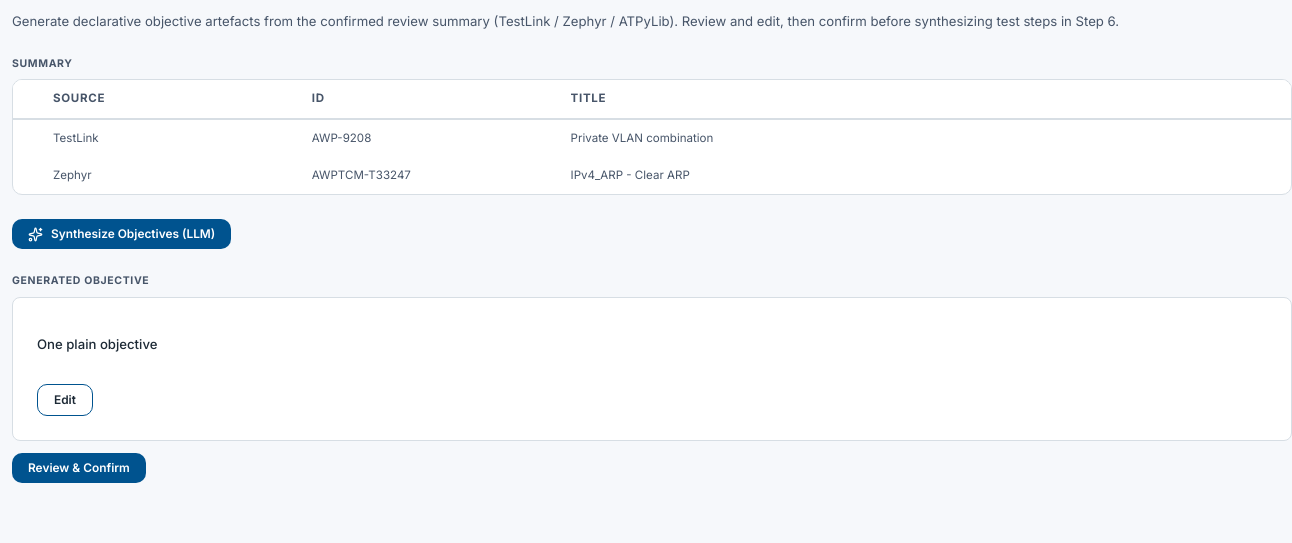
Test: OgObjectives › editing › keeps an objective with no <li> as a single line
What coordinates should you click on to do the following:
click the button "Edit"
I would click on:
 (65, 400)
Its box is [37,384,93,416].
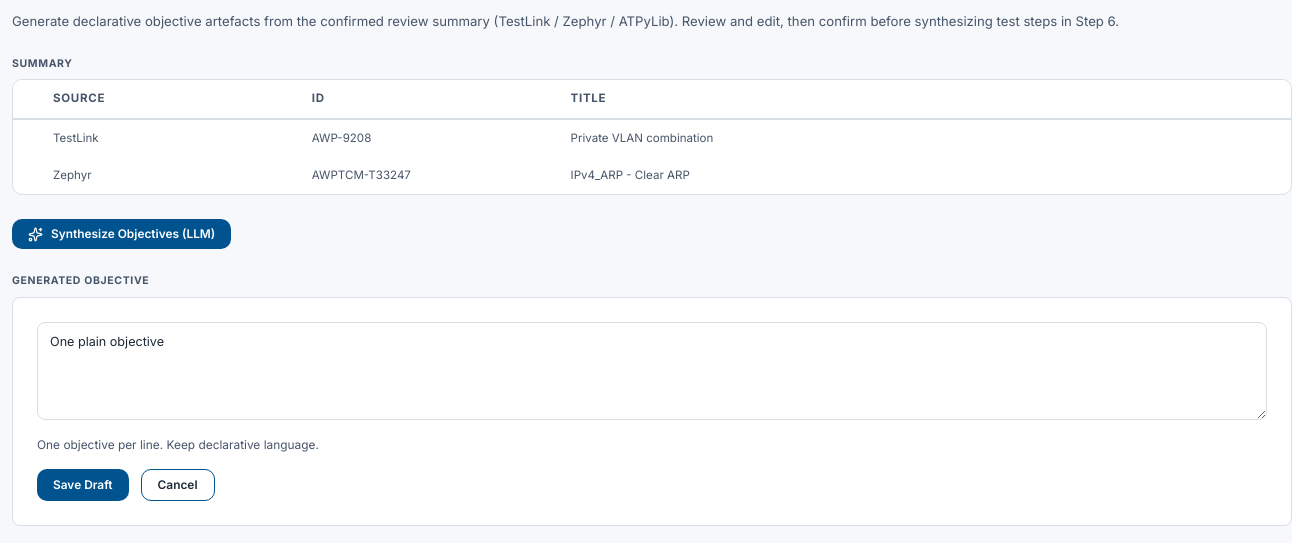
Expected: the text box holds "One plain objective", [37,322,1267,420]
